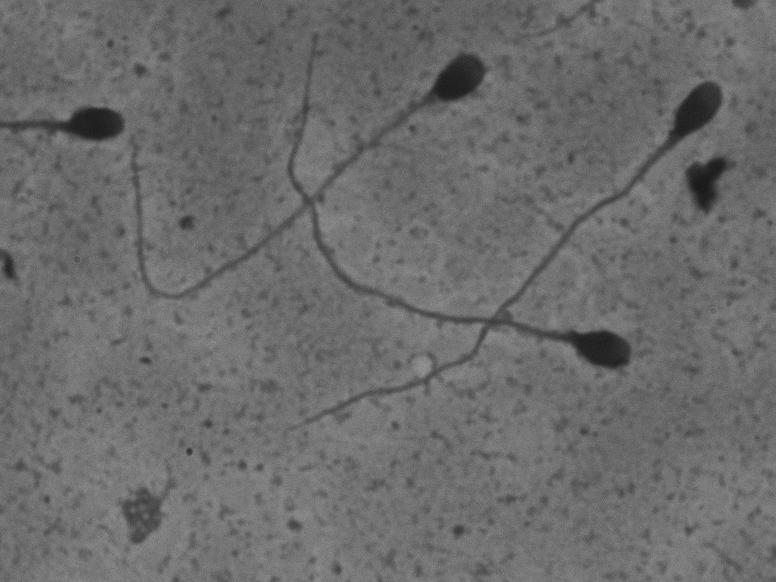Normal: (273, 66, 733, 443), (277, 27, 637, 374), (124, 33, 497, 313)
